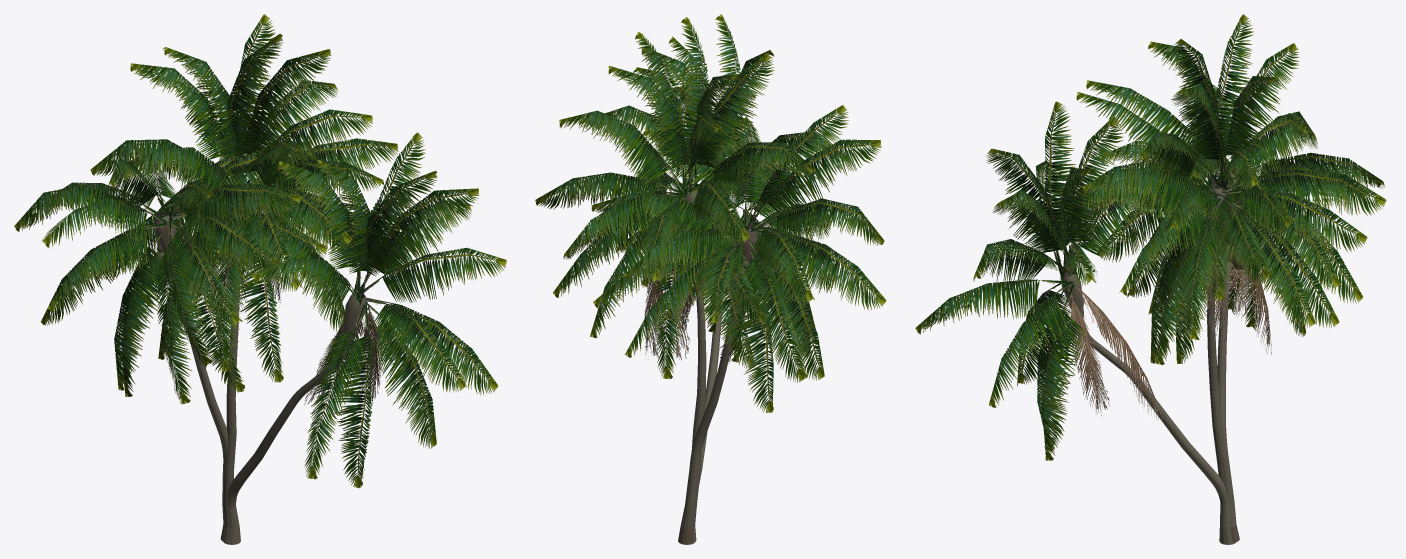
The model's file is Coconut tree.fbx.
3 renders of one model, left to right at view 1: azimuth 30°, elevation 25°; view 2: azimuth 150°, elevation 25°; view 3: azimuth 270°, elevation 25°, orthographic. The views are drawn at different scales.
Visible parts, largest first — view 1: Ccoco_1, Ccoco_3, Ccoco2; view 2: Ccoco2, Ccoco_1, Ccoco_3; view 3: Ccoco_1, Ccoco_3, Ccoco2.
Boxes of the visible parts, bbox=[...] form: Ccoco_1: bbox=[90, 14, 398, 543]; Ccoco_3: bbox=[217, 132, 506, 544]; Ccoco2: bbox=[14, 141, 327, 540]; Ccoco2: bbox=[591, 105, 886, 544]; Ccoco_1: bbox=[535, 17, 815, 542]; Ccoco_3: bbox=[603, 14, 843, 544]; Ccoco_1: bbox=[1059, 14, 1369, 488]; Ccoco_3: bbox=[915, 101, 1236, 544]; Ccoco2: bbox=[1077, 41, 1386, 542].
Size of the model in its own units: 259 by 351 by 295.
